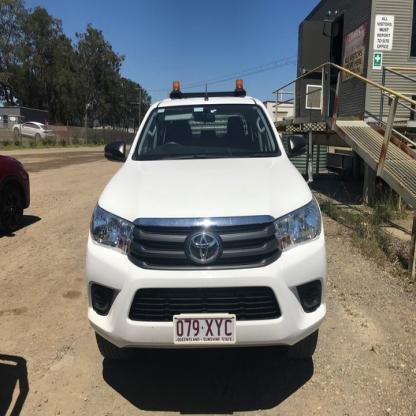light_vehicle: (81, 76, 327, 370)
